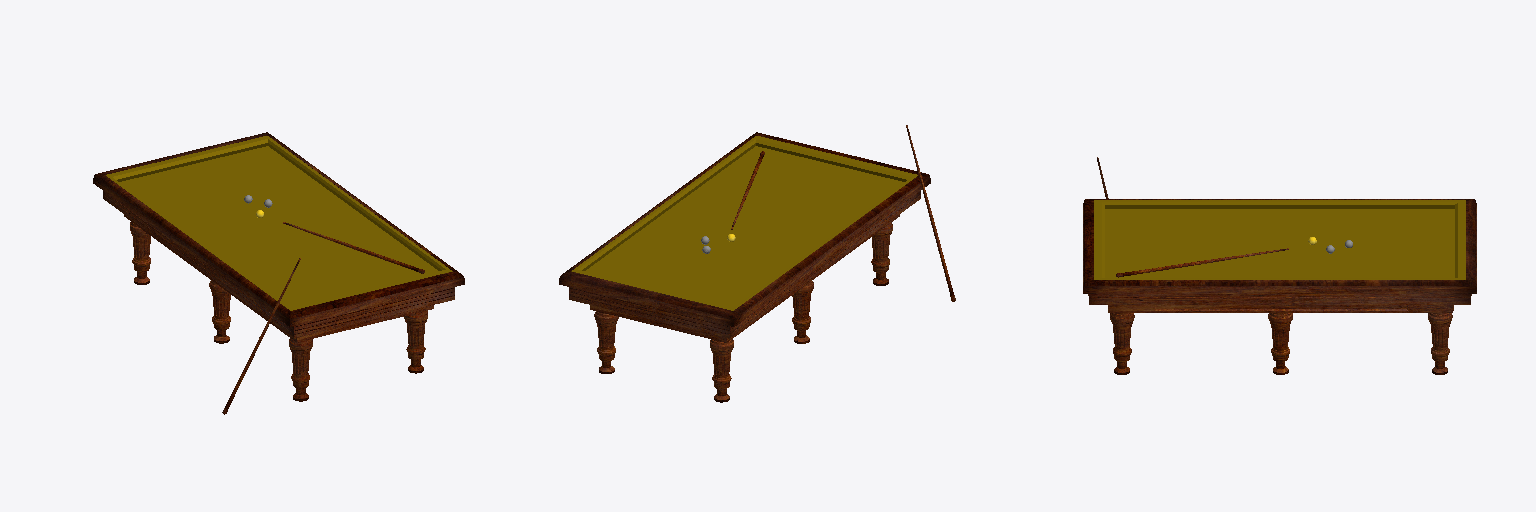
3 renders of one model, left to right at view 1: azimuth 30°, elevation 25°; view 2: azimuth 150°, elevation 25°; view 3: azimuth 270°, elevation 25°, orthographic.
Visible parts, largest first — view 1: bilardo_masasi; view 2: bilardo_masasi; view 3: bilardo_masasi.
Part boxes in pixels (x1,y1,x2,y2): bilardo_masasi: (93, 132, 464, 414); bilardo_masasi: (559, 125, 955, 402); bilardo_masasi: (1083, 157, 1476, 374).
Size of the model in its own units: 25.37 by 16.71 by 39.08.
Materials: 5 (2 with a texture image).